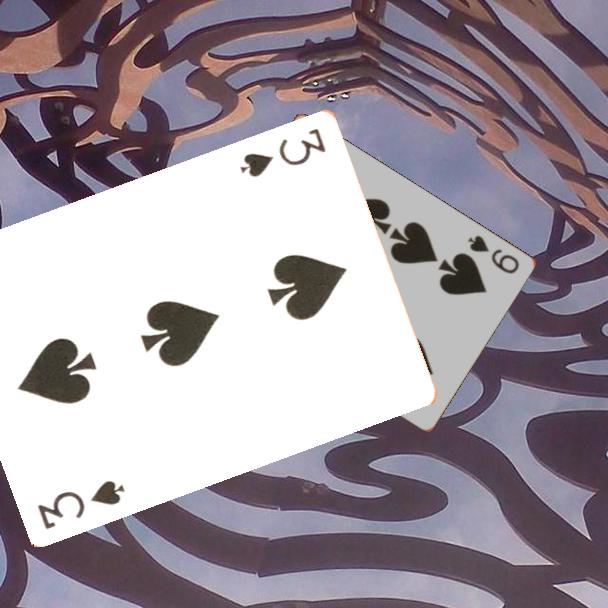s03: (33, 476, 128, 532), (237, 124, 330, 180)
s09: (464, 231, 522, 277)
